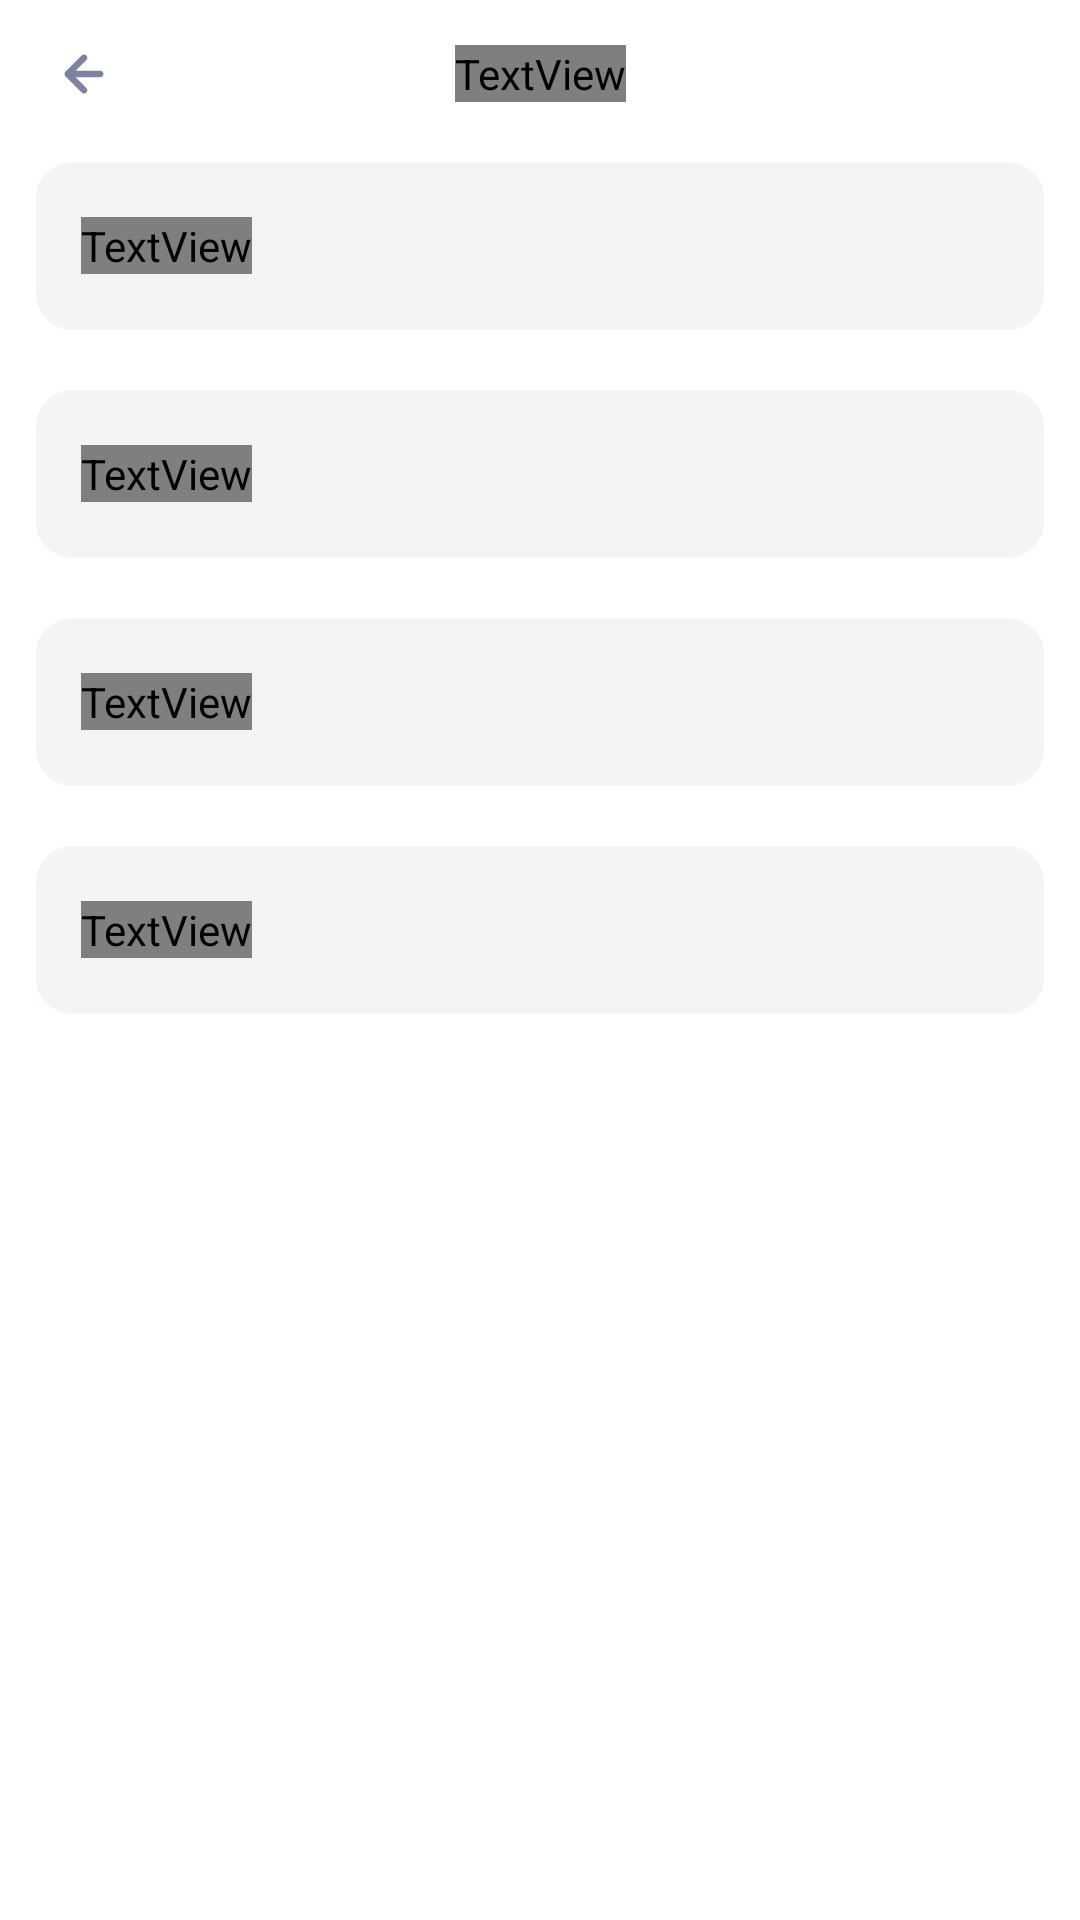

Named icons in this screenshot (1080w x 1920h) and their centers, (x=x, y=y):
left: (x=84, y=74)
